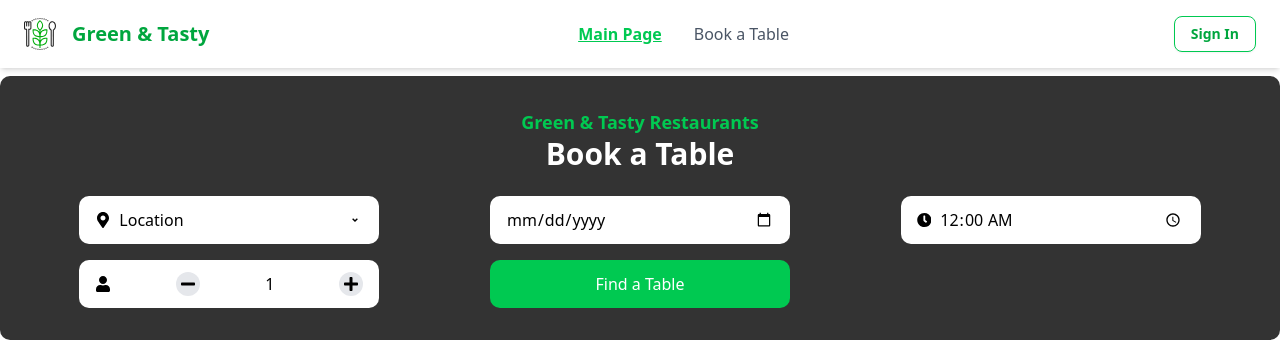
BookTable Component › should select a location from the dropdown
Expected: the text "Location" is shown, [119, 208, 184, 232]
# Click on dropdown and select location
Click the button "Location" at coordinates (151, 220), box [79, 196, 379, 244]
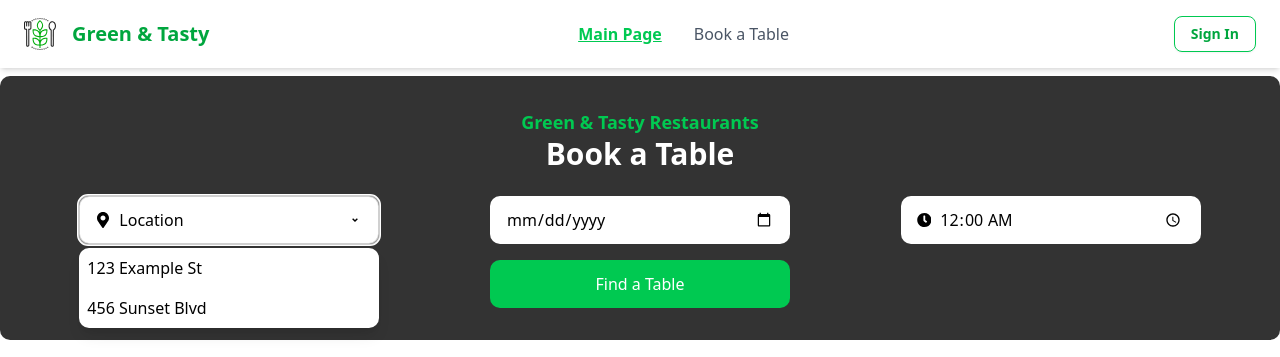
Click the list item "123 Example St" at coordinates (145, 268), box [87, 257, 202, 279]
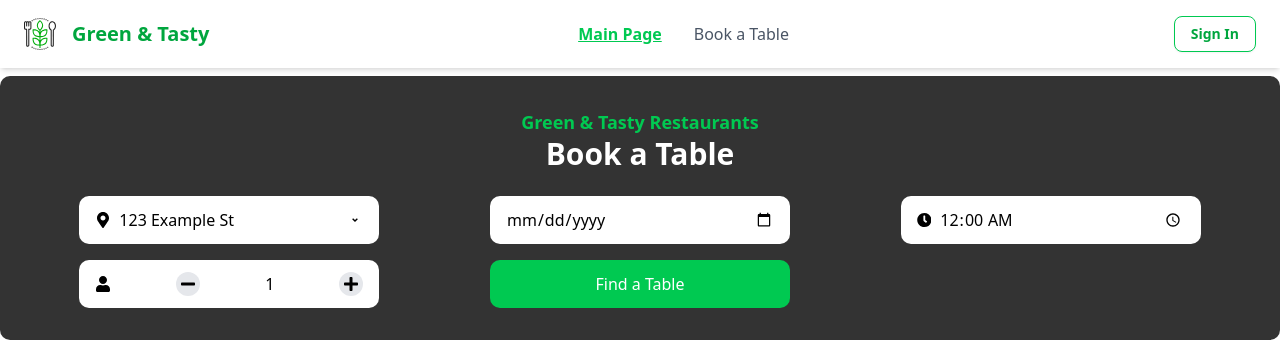
Now the text "123 Example St" is shown, box [119, 208, 234, 232]
